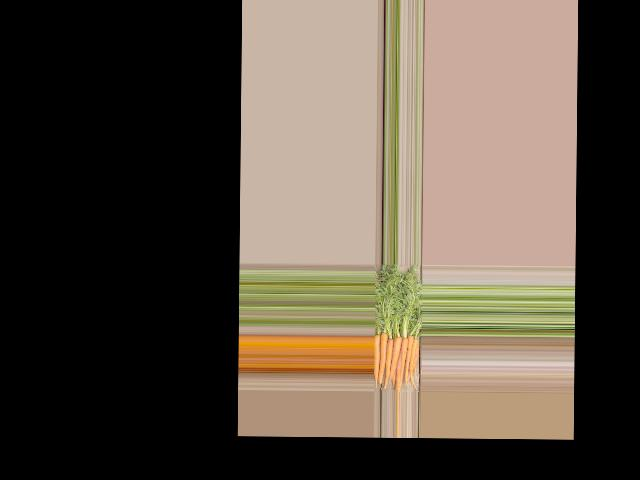carrot: (373, 332, 382, 384)
